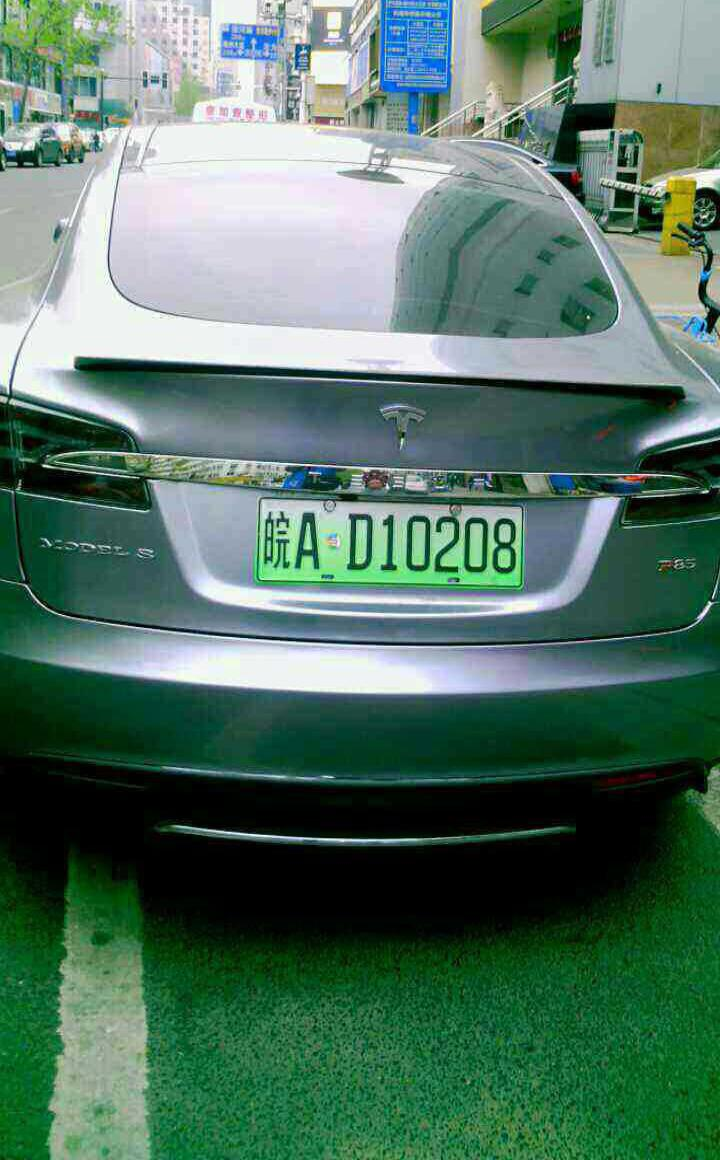car_id: (256, 494, 523, 586)
